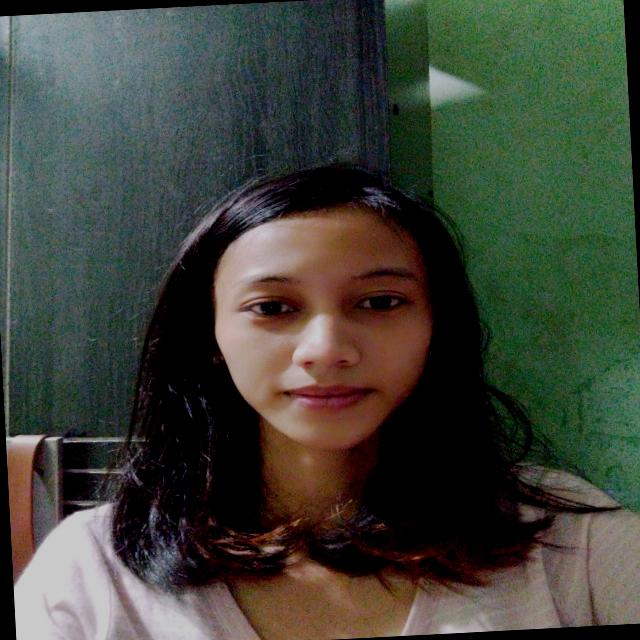eyebrow: (345, 266, 421, 283), (247, 275, 298, 285)
